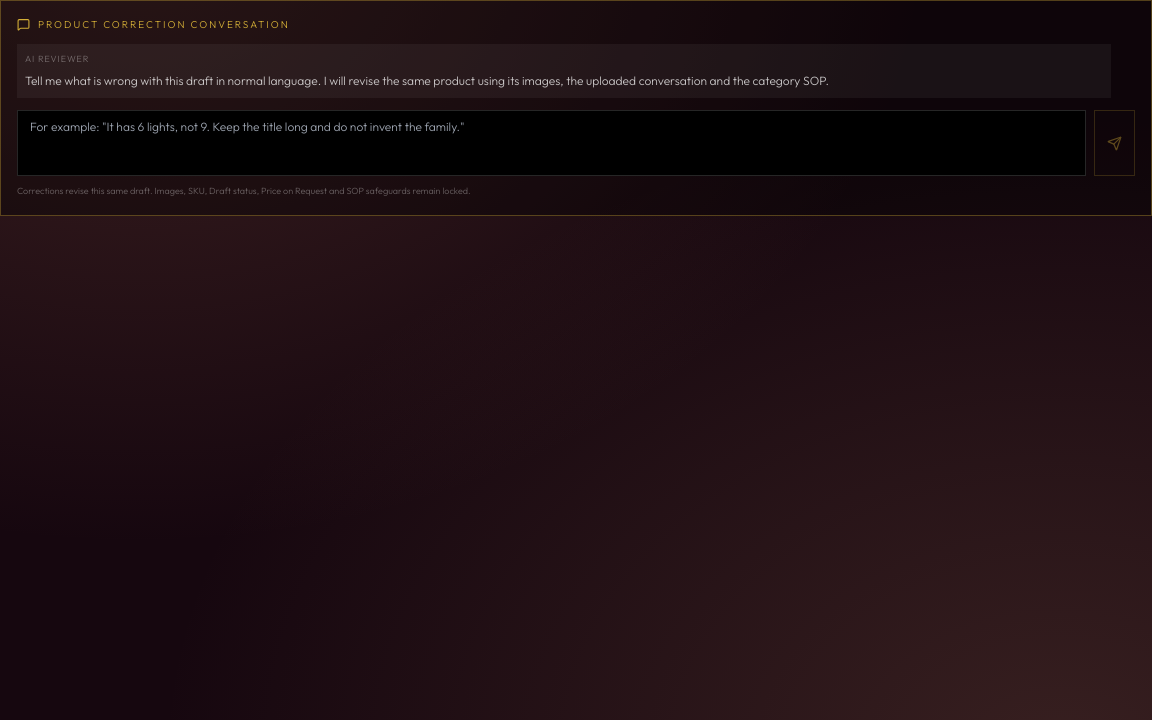
Test case: ProductDraftConversation › keeps the draft unchanged when the assistant asks one question
Replace the text in the text box with placeholder "For example" with "Correct all missing details." at (552, 143), box [17, 110, 1086, 176]
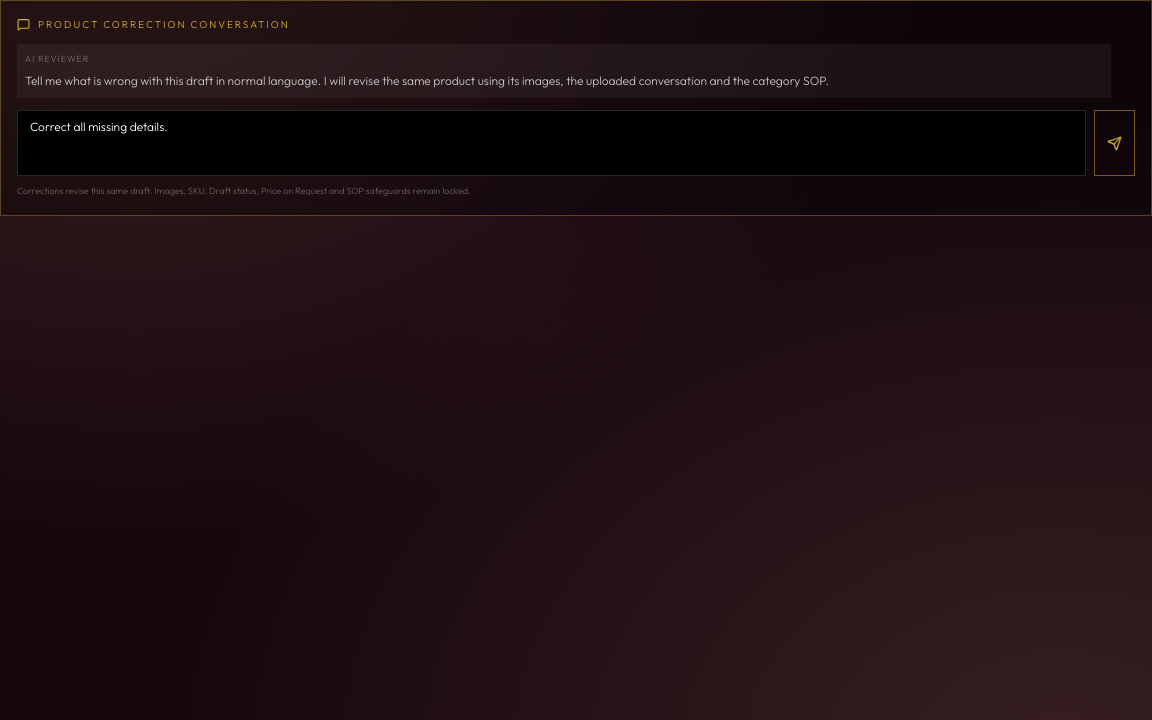
Click the button named "Send product correction".
click(1114, 143)  # box [1094, 110, 1135, 176]
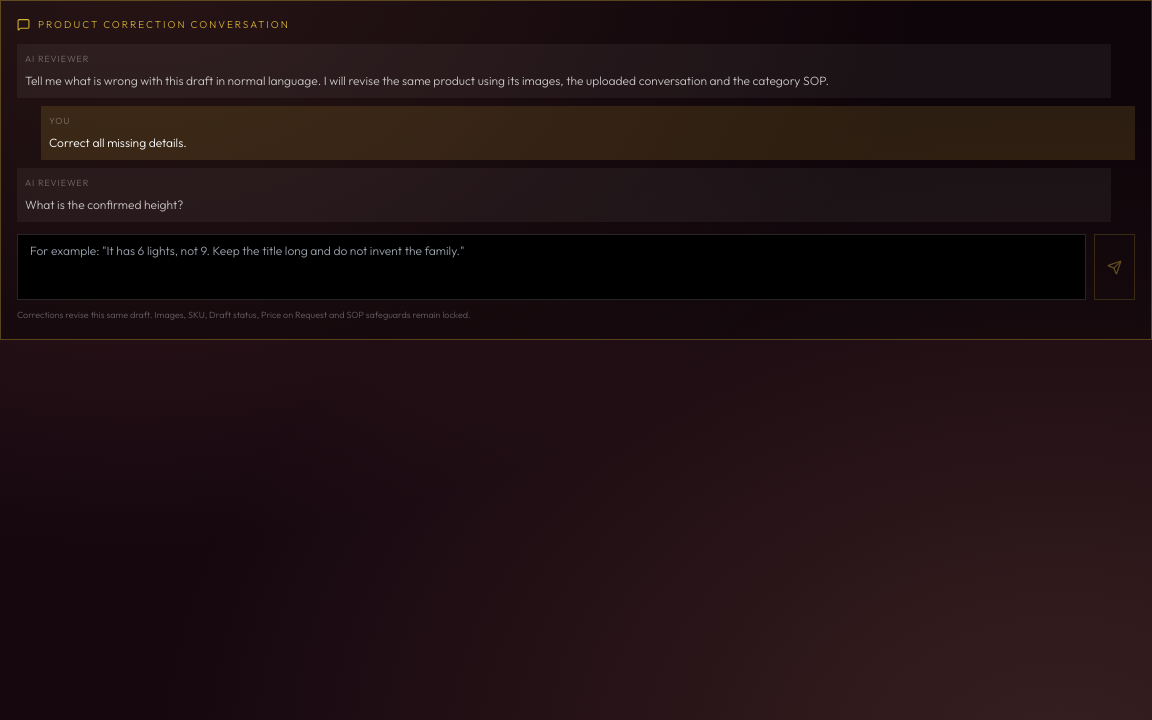
expect the text "What is the confirmed height?" is shown: met, box [25, 197, 183, 212]
